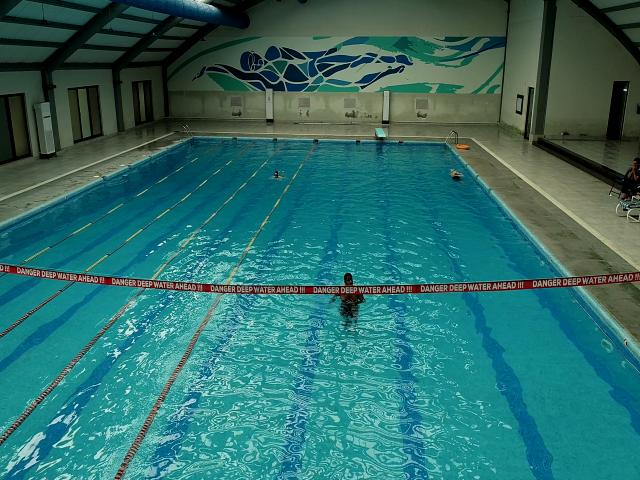out of water: (620, 155, 640, 207)
swimming: (331, 271, 366, 325), (449, 166, 465, 185), (269, 168, 285, 182)
